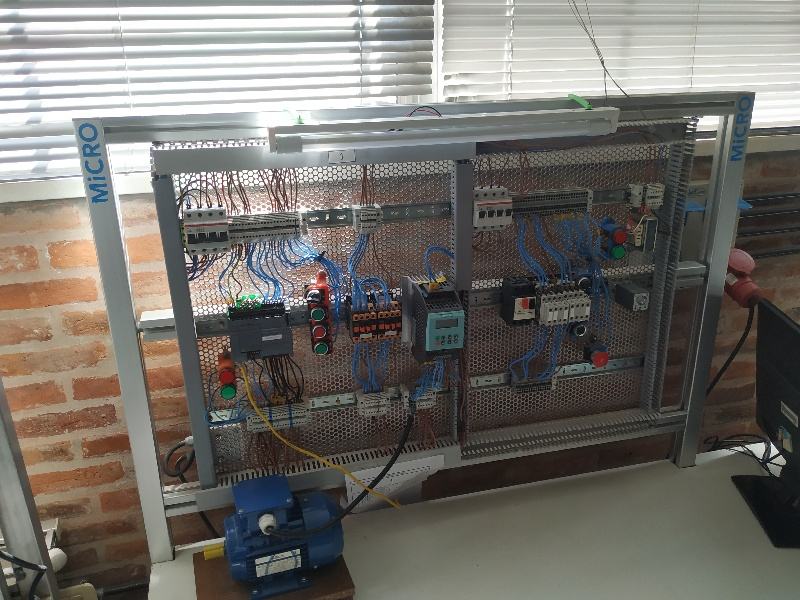Tablero 1: (150, 142, 689, 477)
